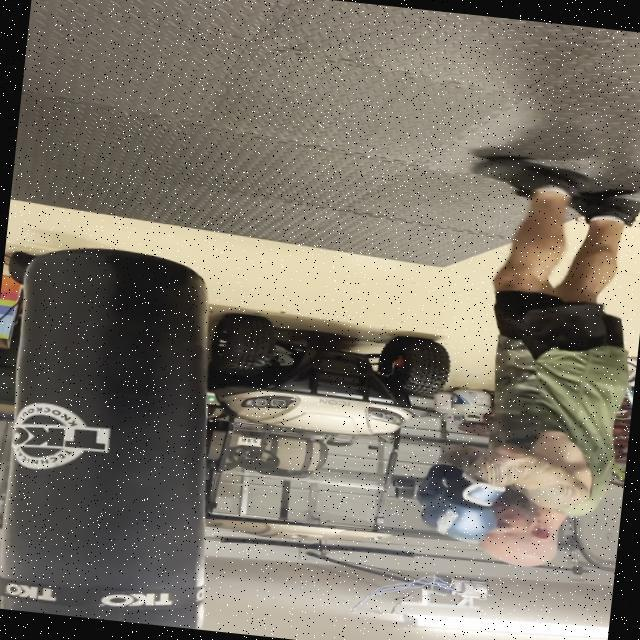bag: (0, 228, 255, 631)
no punch: (388, 410, 628, 588)
